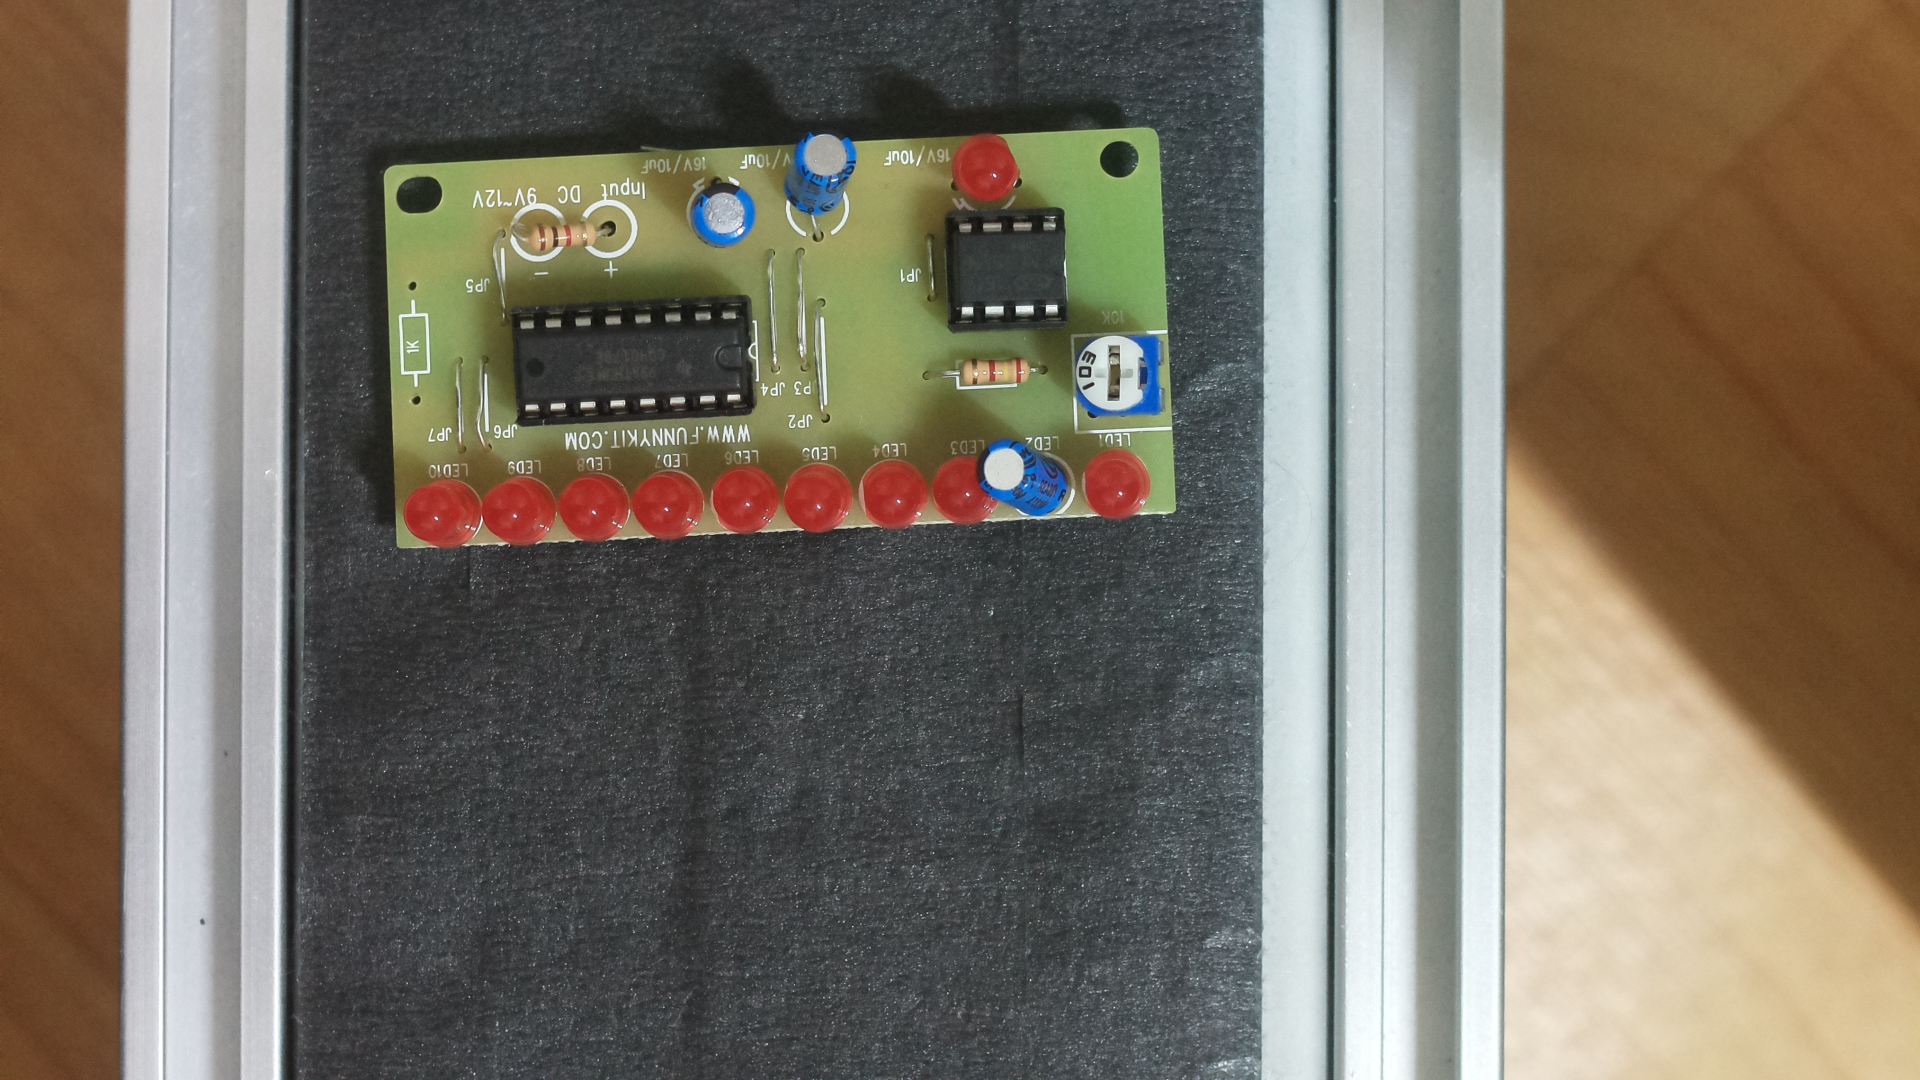B_Misordered: (377, 119, 1197, 576)
